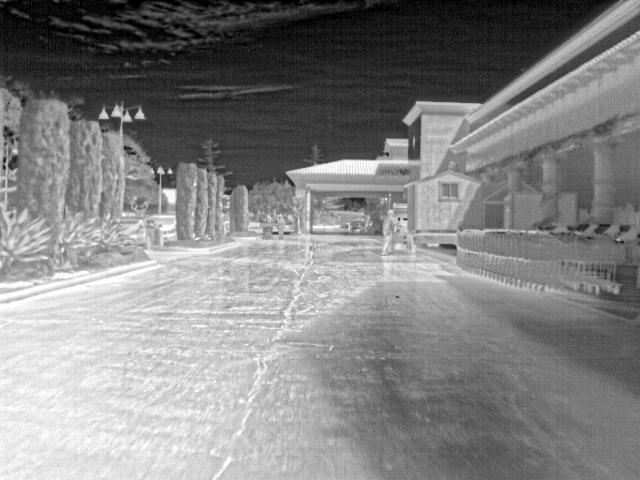car: (120, 214, 162, 248), (148, 214, 178, 244), (249, 222, 263, 232)
person: (380, 209, 399, 257), (274, 212, 285, 240), (265, 212, 275, 226)
